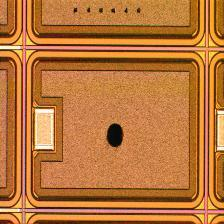PARTICLE: (106, 121, 126, 151)
